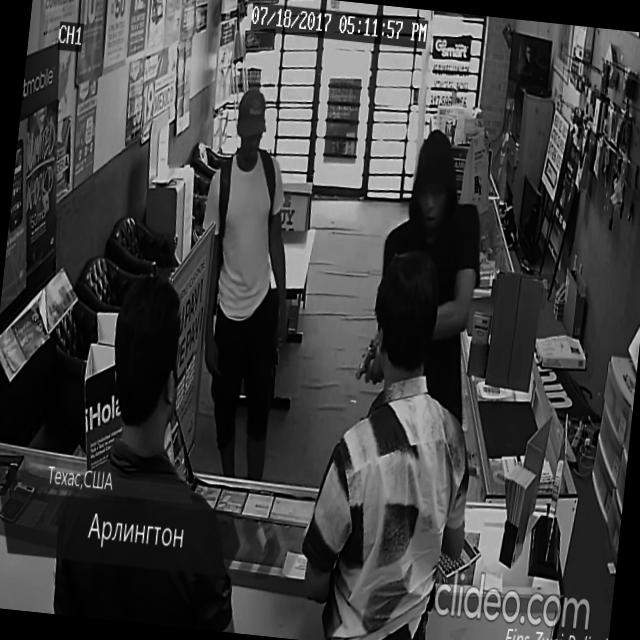gun: (354, 334, 384, 388)
person: (290, 235, 496, 640), (47, 266, 273, 633), (174, 80, 314, 482)
person with a gun: (350, 122, 497, 435)
